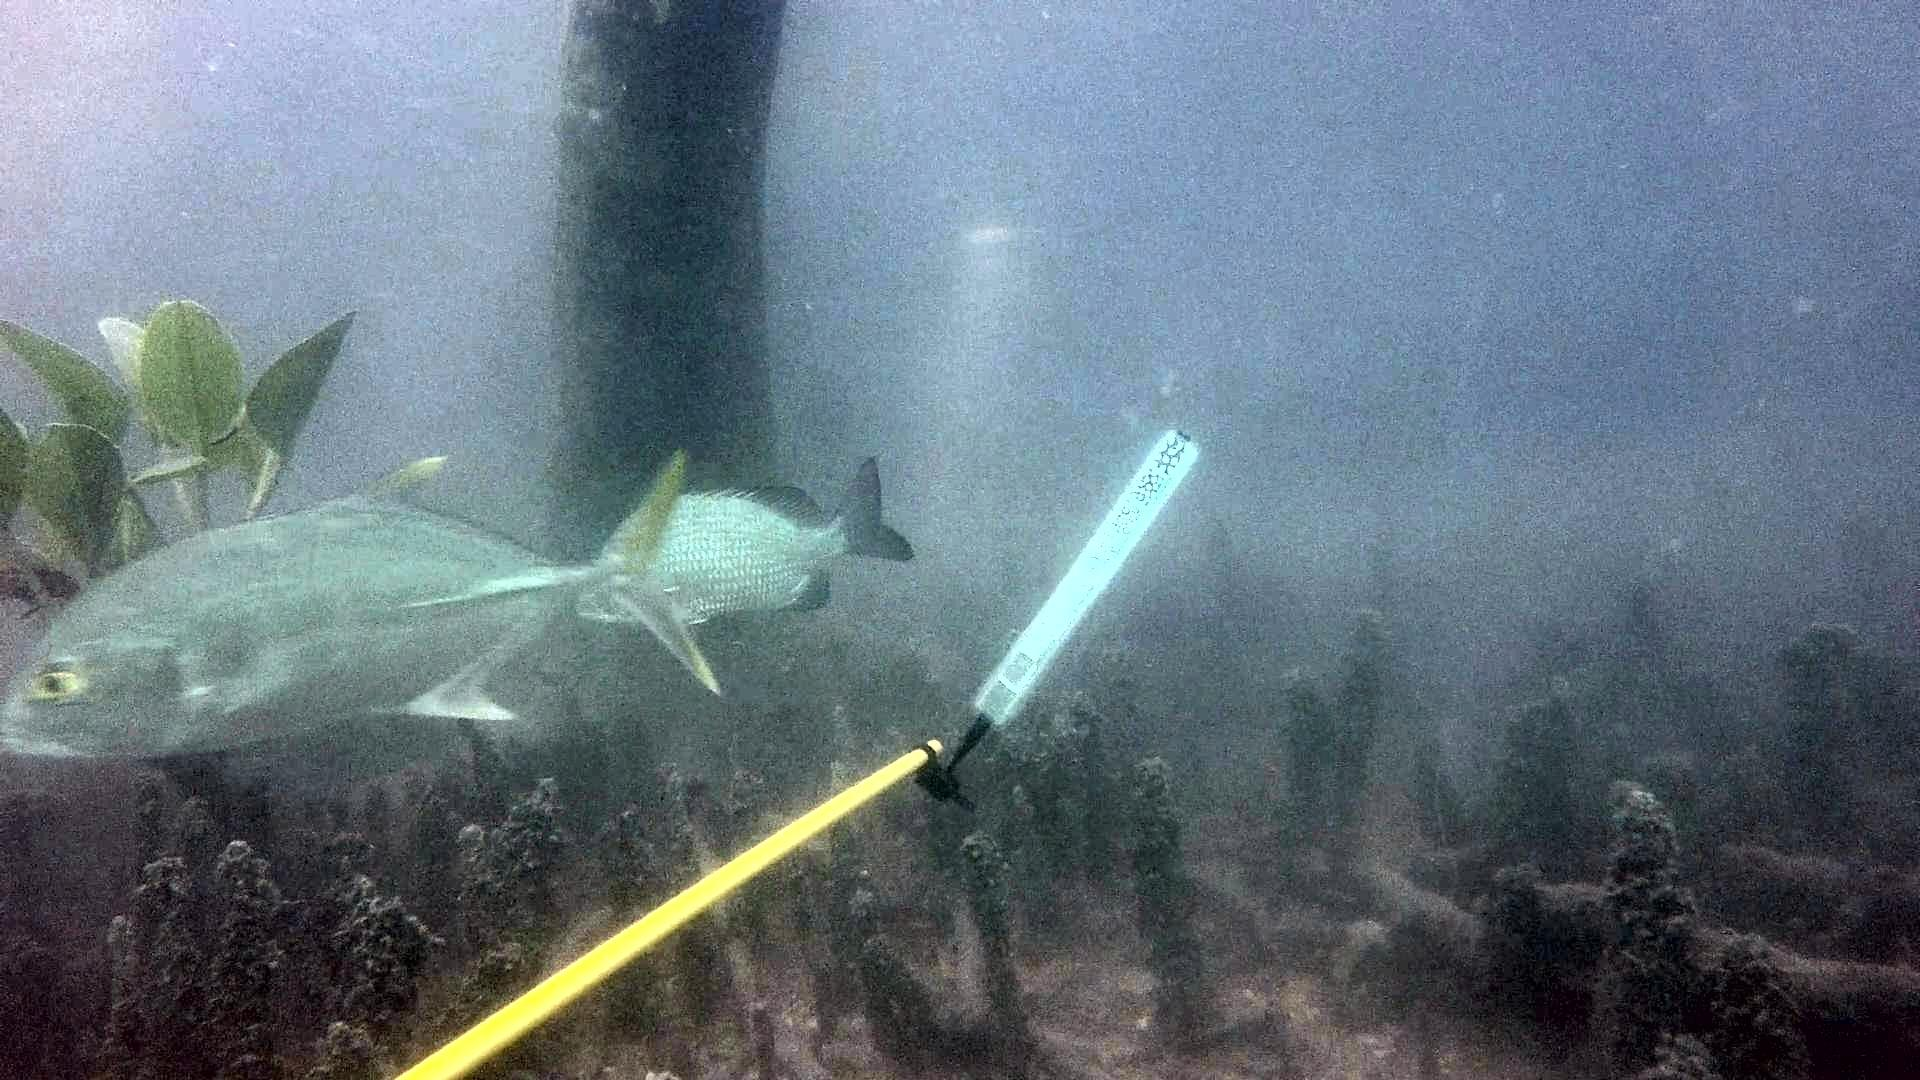acanthopagrus palmaris: (654, 446, 931, 637)
caranx: (0, 440, 731, 775)
